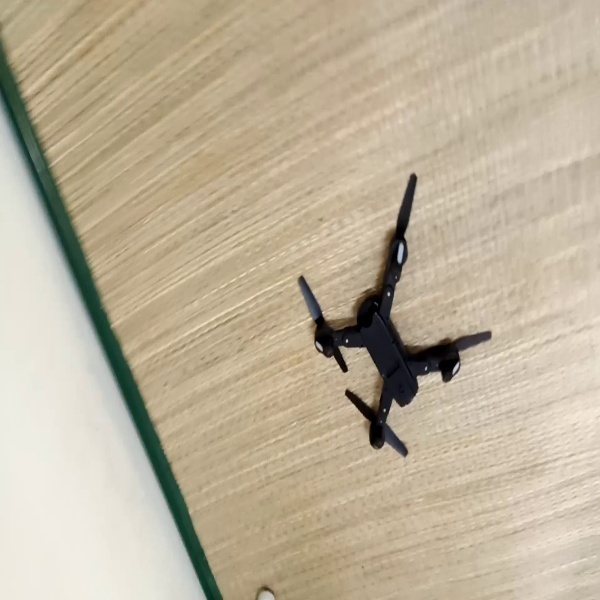drone: (294, 168, 493, 458)
